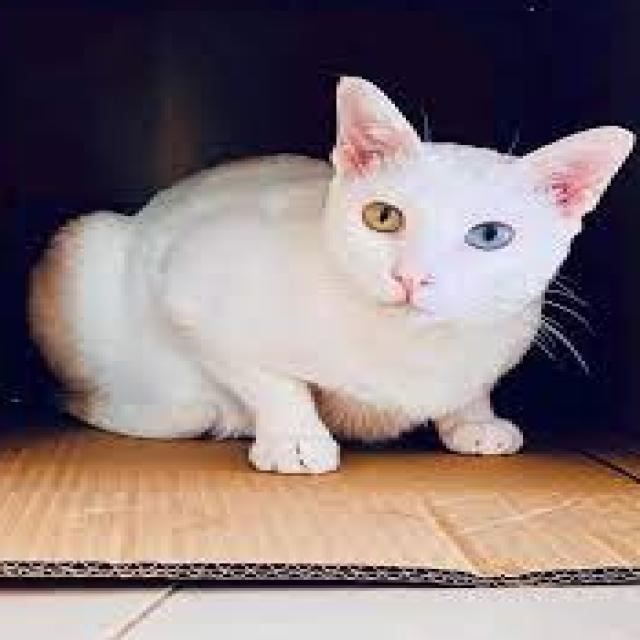Khao Manee: (18, 68, 640, 479)
